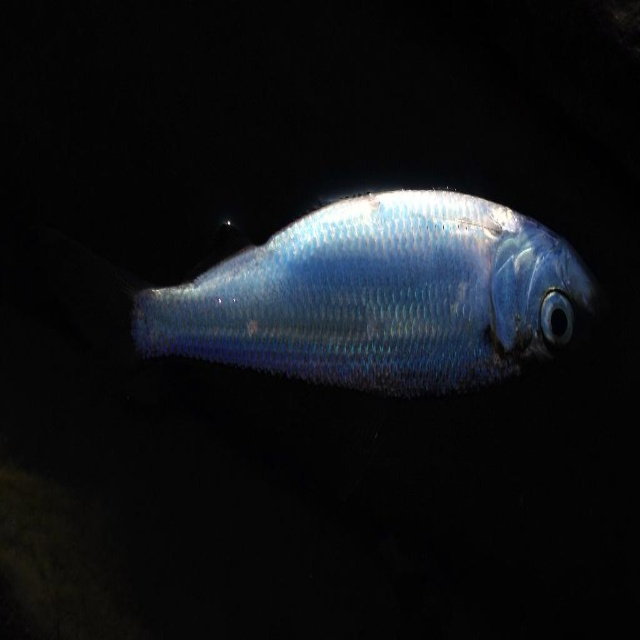Fish: (126, 186, 591, 406)
